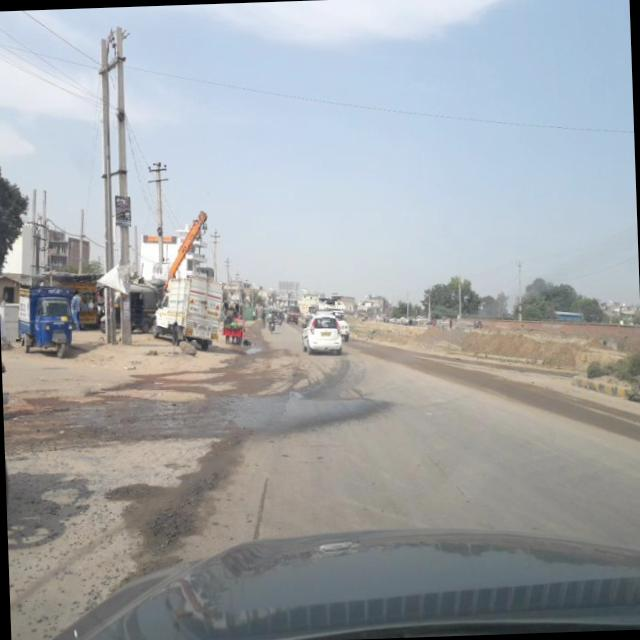pothole: (247, 470, 274, 537)
